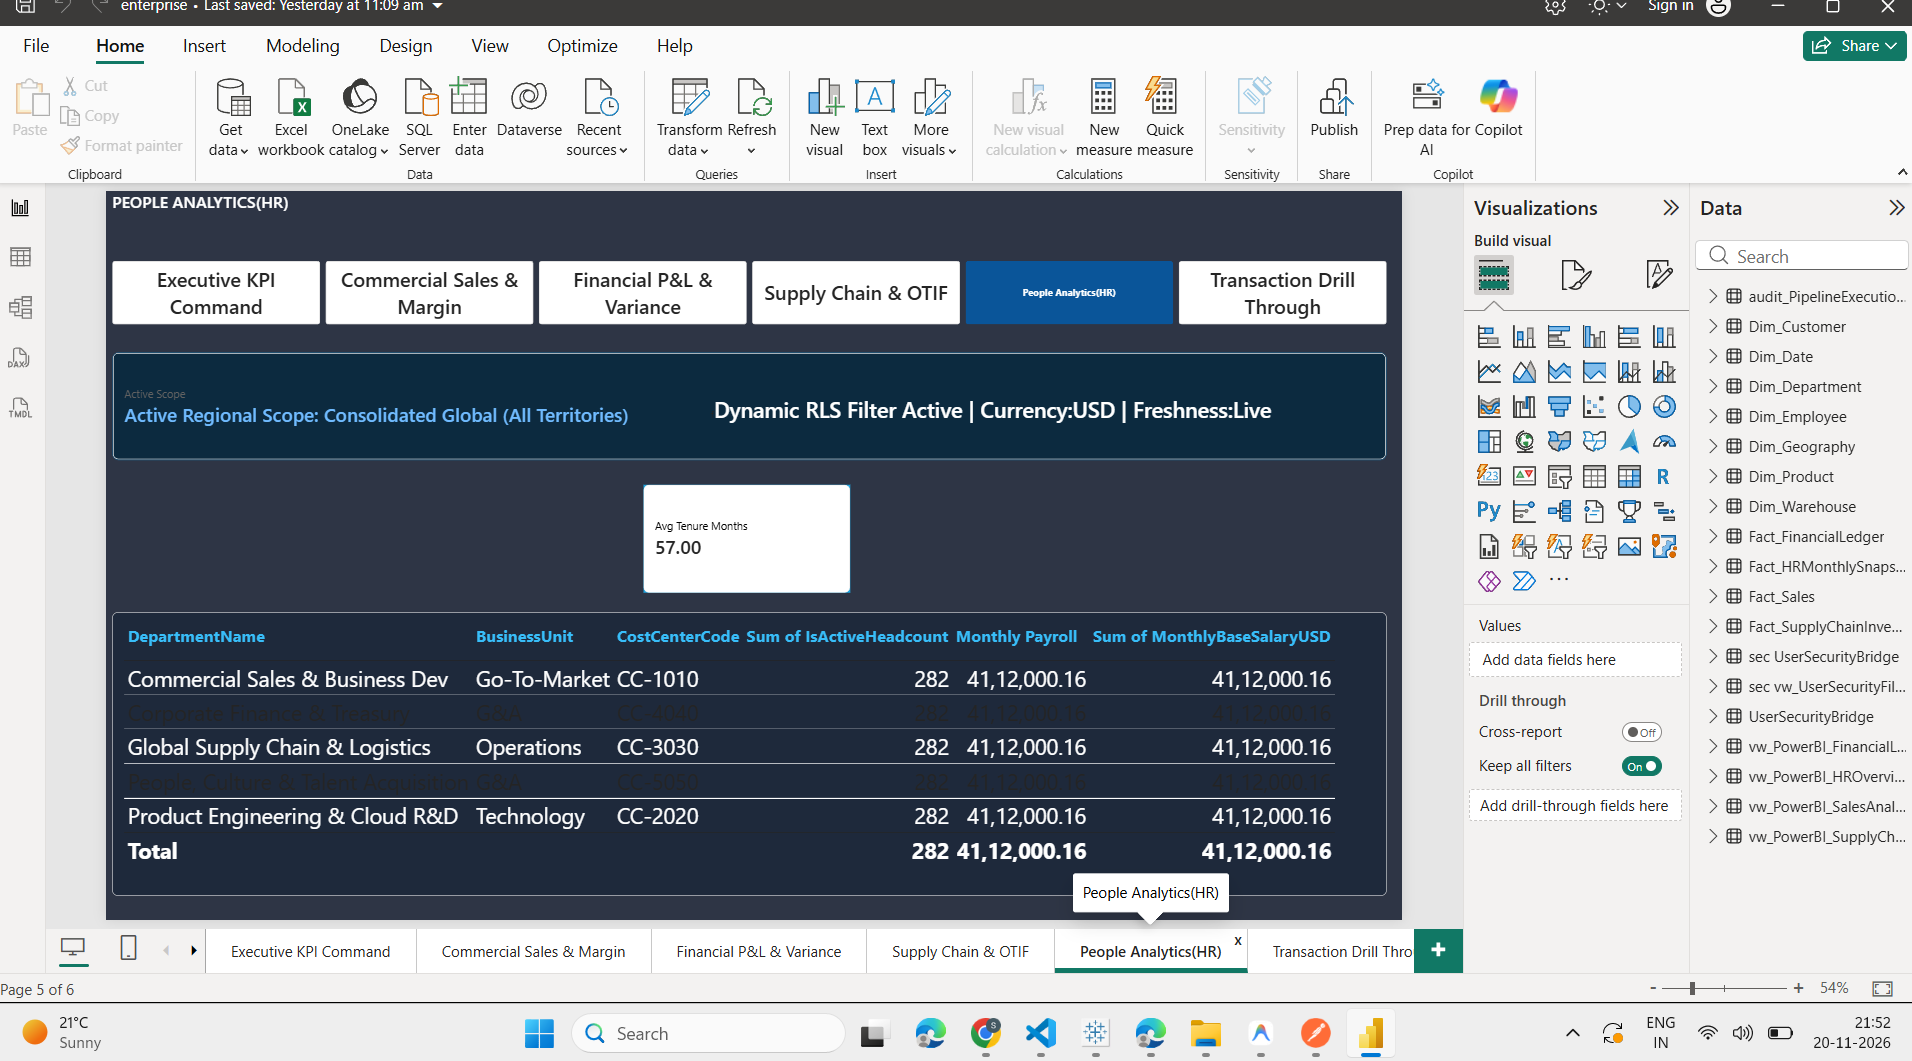

This screenshot's page, from the dashboard's own definition file:
{"tool":"powerbi","page":{"name":"People Analytics(HR)","canvas":[1920,1080],"ordinal":4},"visuals":[{"type":"textbox","box":[10,0,626,80],"z":0},{"type":"pageNavigator","box":[10,104,1888,94],"z":1000},{"type":"cardVisual","fields":{"Data":["Fact_Sales.Active Scope"]},"box":[10,238,1888,160],"z":2000},{"type":"textbox","box":[896,302,1002,54],"z":3000},{"type":"tableEx","fields":{"Values":["Dim_Department.DepartmentName","Dim_Department.BusinessUnit","Dim_Department.CostCenterCode","Sum(vw_PowerBI_HROverview.IsActiveHeadcount)","Fact_Sales.Monthly Payroll","Sum(vw_PowerBI_HROverview.MonthlyBaseSalaryUSD)"]},"box":[10,624,1888,420],"z":4000},{"type":"cardVisual","title":"A","fields":{"Data":["Fact_Sales.Avg Tenure Months"]},"box":[796,436,306,160],"z":7000}]}

Visuals, with their boxes on the page's 1920x1080 design canvas (x1, y1, x2, y2). These are canvas units, not pixel positions in the 1912x1061 screenshot, which may show the page scaled, cropped or inside an application window:
textbox: bbox=[10, 0, 636, 80]
pageNavigator: bbox=[10, 104, 1898, 198]
cardVisual - Fact_Sales.Active Scope: bbox=[10, 238, 1898, 398]
textbox: bbox=[896, 302, 1898, 356]
tableEx - Dim_Department.DepartmentName x Dim_Department.BusinessUnit: bbox=[10, 624, 1898, 1044]
"A" cardVisual: bbox=[796, 436, 1102, 596]
